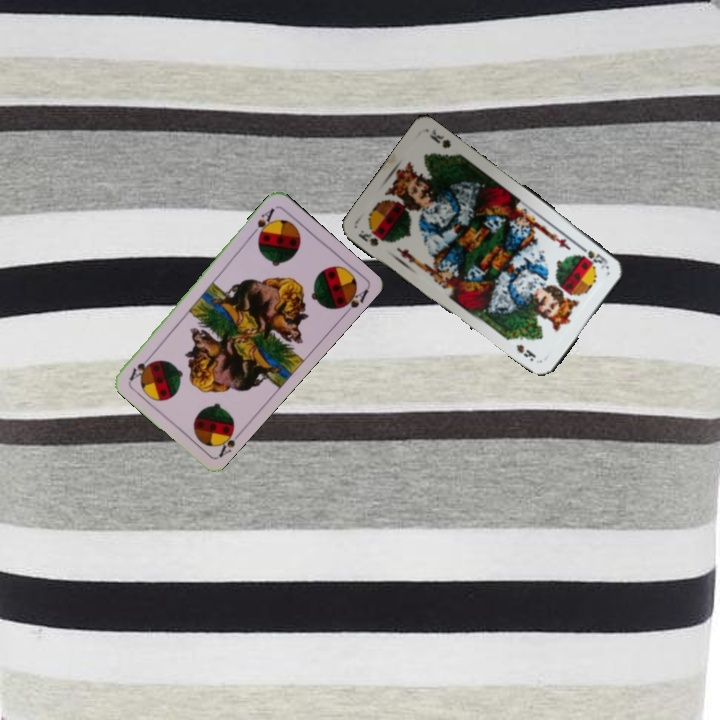SA: (211, 421, 245, 460), (248, 204, 277, 241)
SK: (575, 241, 610, 270), (354, 226, 387, 249)
